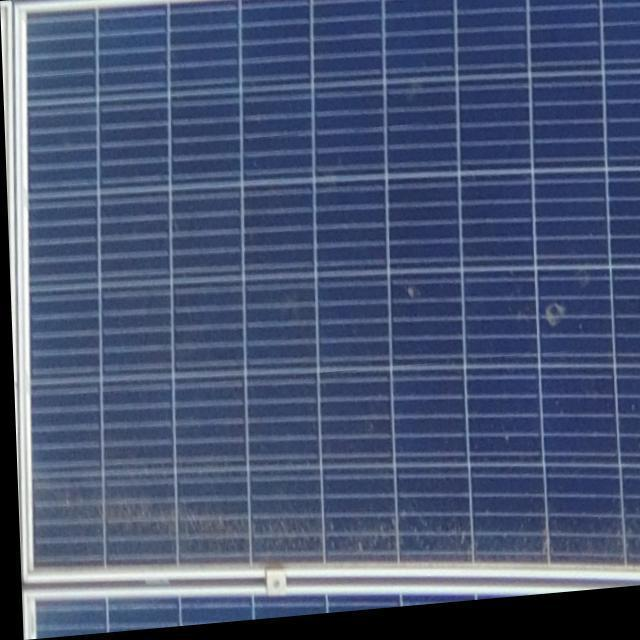Surface Contaminant: (32, 474, 640, 569), (529, 278, 578, 352)
